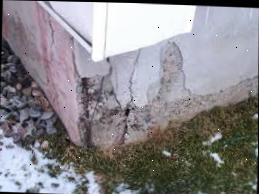exposed_rebar: (80, 77, 90, 147)
spalling: (77, 43, 258, 147)
